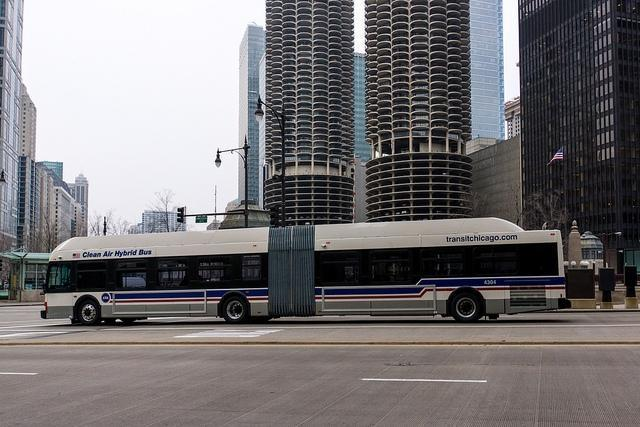bus: (41, 216, 570, 330)
